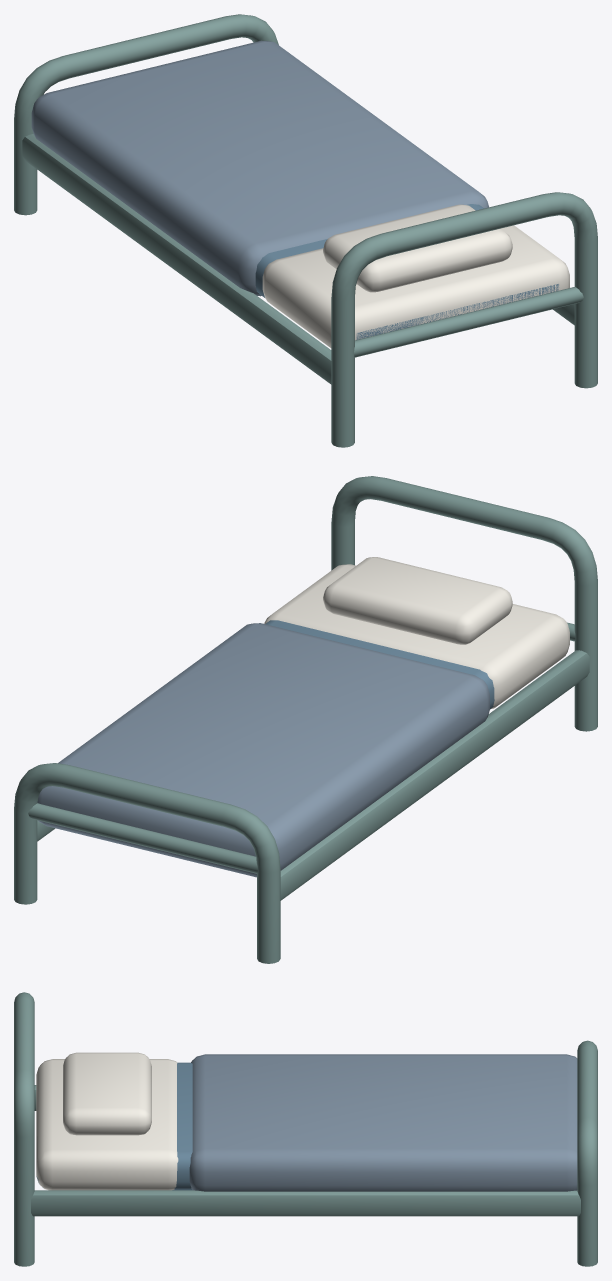
File: bed.glb
3 views of the same model, one above another, from view 1: azimuth 30°, elevation 25°; view 2: azimuth 150°, elevation 25°; view 3: azimuth 270°, elevation 25° (orthographic). The views are drawn at different scales.
Visible parts, largest first — view 1: blanket, paint, sheet, mattress; view 2: blanket, paint, sheet, mattress; view 3: blanket, paint, sheet, mattress.
Boxes of the visible parts, x1,y1,x2,y2 form: blanket: [31, 40, 488, 296]; paint: [14, 14, 597, 447]; sheet: [262, 204, 569, 347]; mattress: [255, 204, 558, 339]; blanket: [37, 623, 489, 877]; paint: [14, 476, 597, 963]; sheet: [264, 557, 569, 708]; mattress: [265, 620, 494, 709]; blanket: [189, 1054, 577, 1191]; paint: [14, 992, 597, 1266]; sheet: [36, 1052, 178, 1190]; mattress: [36, 1062, 192, 1190].
Bounding box in the file's own units: 0.91 × 0.655 × 1.97.
